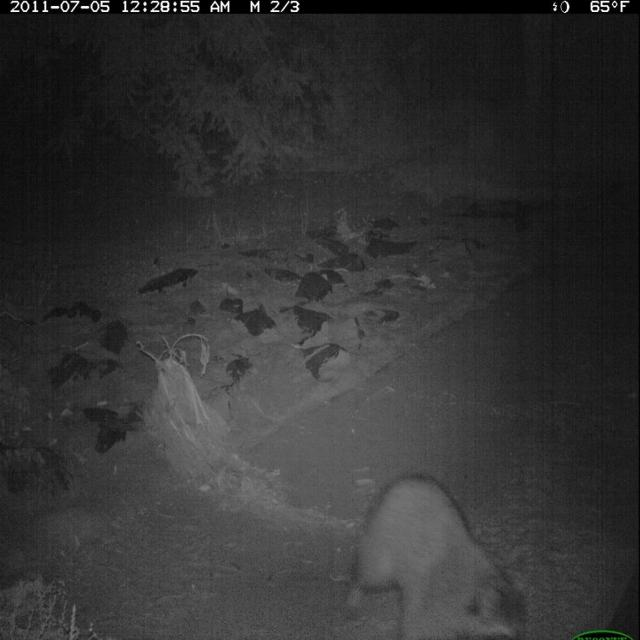raccoon: (346, 468, 537, 640)
